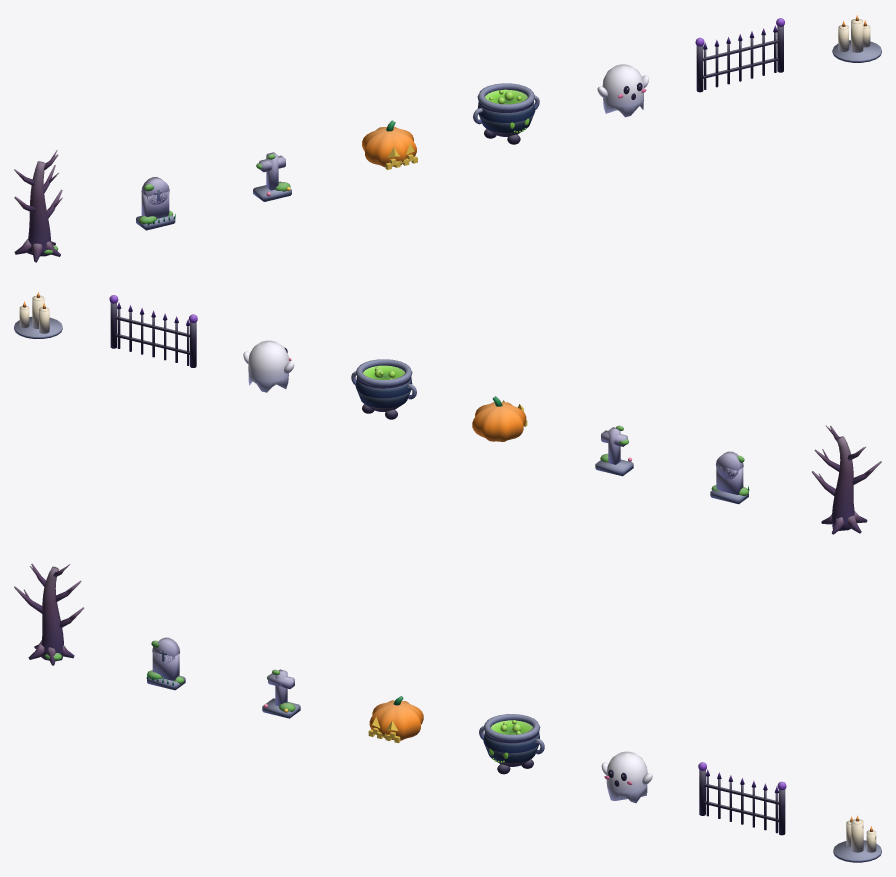
Rendered from CursedProps.fbx.
3 renders of one model, top to bottom at view 1: azimuth 30°, elevation 25°; view 2: azimuth 150°, elevation 25°; view 3: azimuth 330°, elevation 25°, orthographic.
Visible parts, largest first — view 1: Cauldron, DeadTree, IronFence, Ghost, Pumpkin, Candles, TombstoneRound, TombstoneCross; view 2: Cauldron, DeadTree, IronFence, Ghost, Pumpkin, TombstoneRound, Candles, TombstoneCross; view 3: Cauldron, DeadTree, IronFence, Ghost, Pumpkin, TombstoneRound, Candles, TombstoneCross.
Boxes of the visible parts, <box> form: Cauldron: <box>473,83,539,144</box>; DeadTree: <box>14,150,62,262</box>; IronFence: <box>695,18,784,92</box>; Ghost: <box>597,64,649,117</box>; Pumpkin: <box>362,120,417,169</box>; Candles: <box>832,15,881,62</box>; TombstoneRound: <box>136,177,175,230</box>; TombstoneCross: <box>253,152,291,201</box>; Cauldron: <box>351,359,416,419</box>; DeadTree: <box>812,425,881,534</box>; IronFence: <box>109,295,197,367</box>; Ghost: <box>243,340,294,392</box>; Pumpkin: <box>472,396,527,441</box>; TombstoneRound: <box>710,451,749,504</box>; Candles: <box>14,292,62,338</box>; TombstoneCross: <box>595,425,633,476</box>; Cauldron: <box>479,714,544,774</box>; DeadTree: <box>14,563,84,665</box>; IronFence: <box>698,762,786,835</box>; Ghost: <box>601,751,652,803</box>; Pumpkin: <box>368,696,423,743</box>; TombstoneRound: <box>146,637,185,690</box>; Candles: <box>833,815,881,862</box>; TombstoneCross: <box>262,669,300,718</box>.
Size of the model in its own units: 13397 by 1461 by 793.
Materials: 1 (1 with a texture image).
